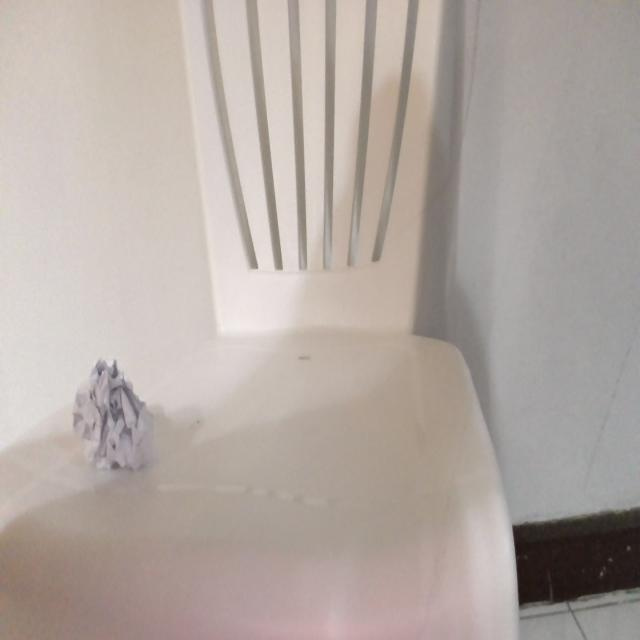crumpled_paper: (73, 351, 155, 473)
